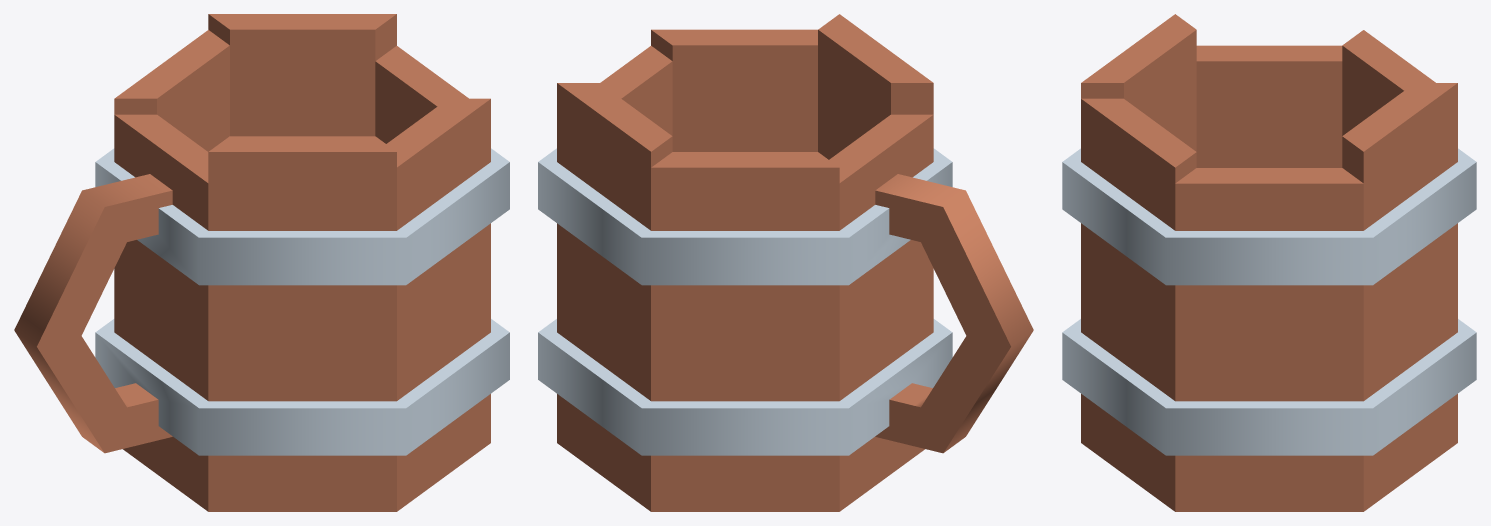
The model's file is mug.GLB.
3 views of the same model, side by side, from view 1: azimuth 30°, elevation 25°; view 2: azimuth 150°, elevation 25°; view 3: azimuth 270°, elevation 25° (orthographic).
Visible parts, largest first — view 1: mug; view 2: mug; view 3: mug.
Boxes of the visible parts, bbox=[...] form: mug: bbox=[14, 14, 509, 511]; mug: bbox=[538, 14, 1033, 511]; mug: bbox=[1062, 14, 1476, 511].
Size of the model in its own units: 0.3437 by 0.2734 by 0.2851.
